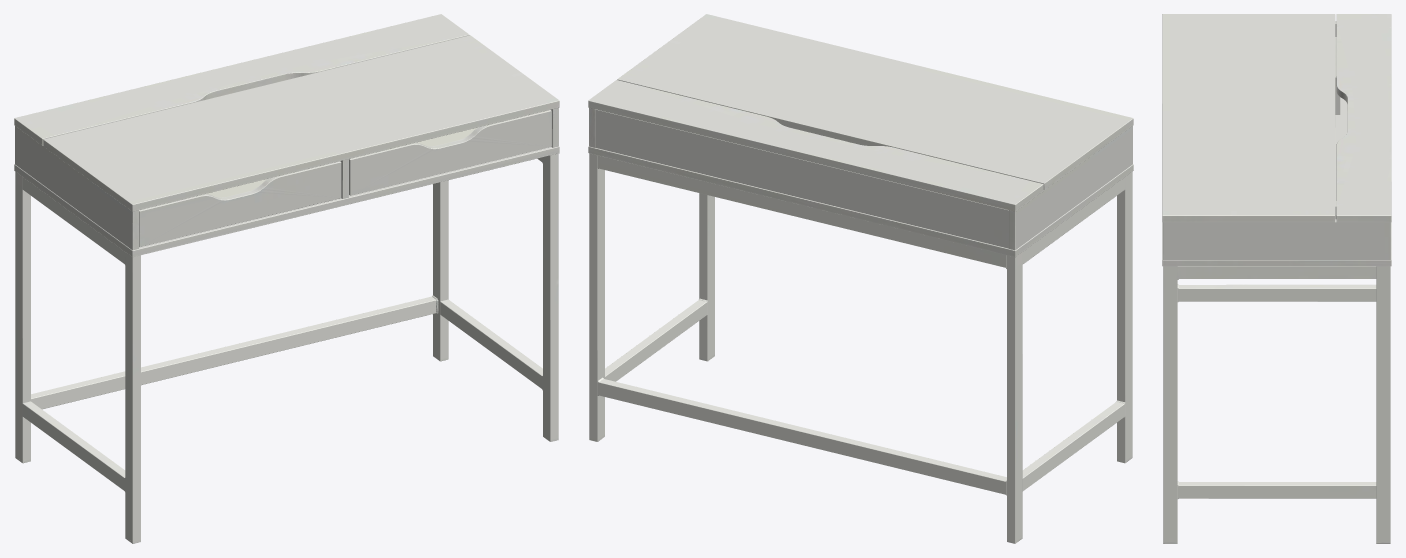
3 renders of one model, left to right at view 1: azimuth 30°, elevation 25°; view 2: azimuth 150°, elevation 25°; view 3: azimuth 270°, elevation 25°, orthographic. The views are drawn at different scales.
Visible parts, largest first — view 1: GLTF; view 2: GLTF; view 3: GLTF.
Part boxes in pixels (bbox=[...]): GLTF: bbox=[14, 14, 559, 543]; GLTF: bbox=[588, 14, 1133, 543]; GLTF: bbox=[1162, 14, 1391, 543].
Bounding box in the file's own units: 1 × 0.76 × 0.48.
1 material, 1 textured.
